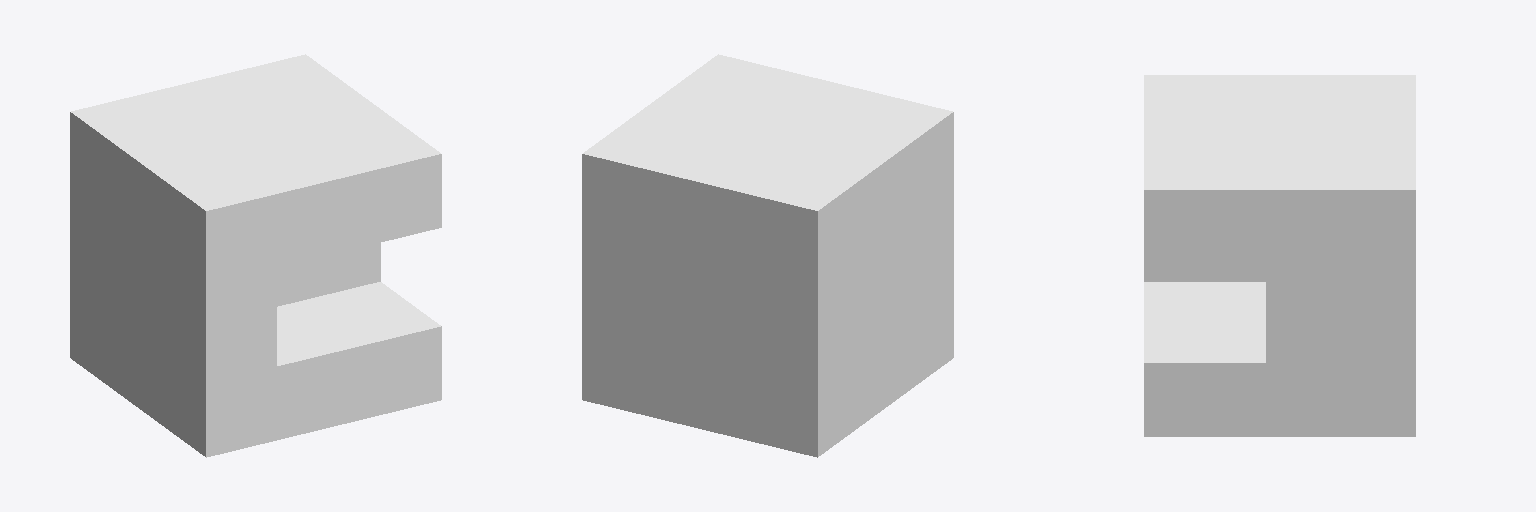
The model's file is end_piece.obj.
3 views of the same model, side by side, from view 1: azimuth 30°, elevation 25°; view 2: azimuth 150°, elevation 25°; view 3: azimuth 270°, elevation 25° (orthographic).
Parts seen in each view (by area): view 1: end_piece; view 2: end_piece; view 3: end_piece.
Boxes of the visible parts, <box> form: end_piece: <box>70,54,441,457</box>; end_piece: <box>582,54,953,457</box>; end_piece: <box>1144,75,1415,436</box>.
Size of the model in its own units: 20 by 20 by 20.